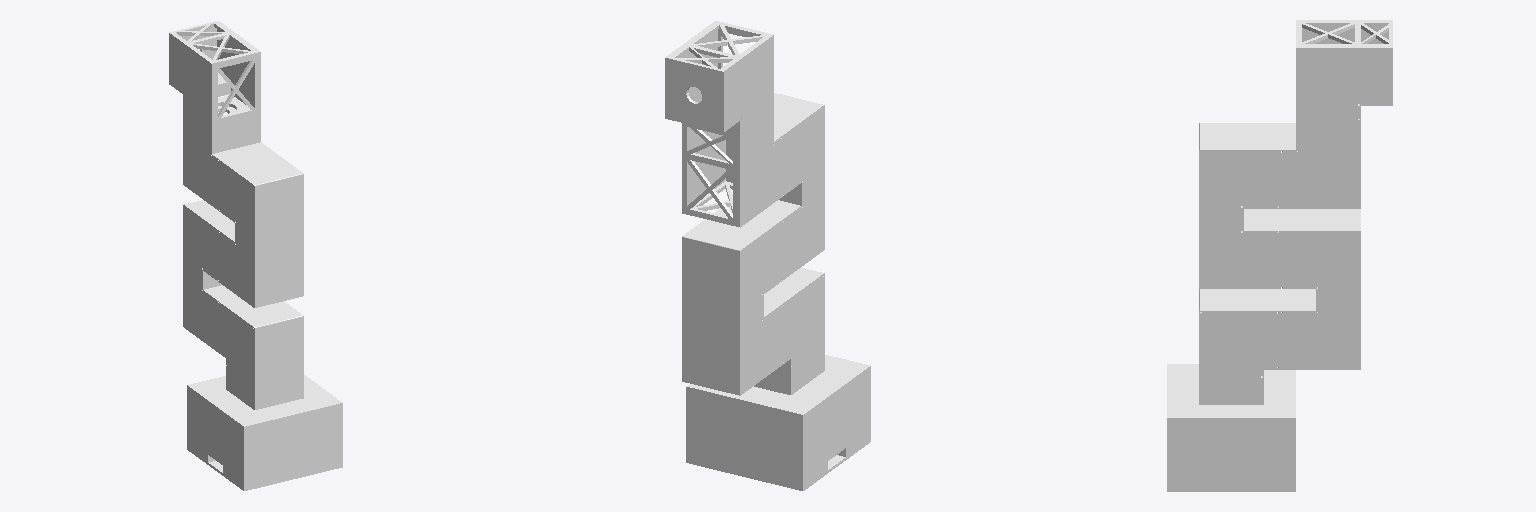
URDF robot description (jdcobot_200_description):
<?xml version="1.0" encoding="utf-8"?>
<!-- This URDF was automatically created by SolidWorks to URDF Exporter! Originally created by [author] ([email redacted]) 
     Commit Version: 1.6.0-4-g7f85cfe  Build Version: 1.6.7995.38578
     For more information, please see http://wiki.ros.org/sw_urdf_exporter -->
<robot
  name="jdcobot_200_description">
  <link
    name="base_link">
    <inertial>
      <origin
        xyz="0.000562757024246966 0.0553111268232362 8.01323732304302E-10"
        rpy="0 0 0" />
      <mass
        value="1.45466230260579" />
      <inertia
        ixx="0.00586037843377662"
        ixy="3.70855294060135E-05"
        ixz="-2.80341788206397E-12"
        iyy="0.00896767875105627"
        iyz="-3.76086880841158E-11"
        izz="0.00580377346334889" />
    </inertial>
    <visual>
      <origin
        xyz="0 0 0"
        rpy="0 0 0" />
      <geometry>
        <mesh
          filename="package://jdcobot_200_description/meshes/base_link.STL" />
      </geometry>
      <material
        name="">
        <color
          rgba="1 1 1 1" />
      </material>
    </visual>
    <collision>
      <origin
        xyz="0 0 0"
        rpy="0 0 0" />
      <geometry>
        <mesh
          filename="package://jdcobot_200_description/meshes/base_link.STL" />
      </geometry>
    </collision>
  </link>
  <link
    name="link_1">
    <inertial>
      <origin
        xyz="-0.00686430187287576 -0.0611677451215621 -3.07255157625046E-15"
        rpy="0 0 0" />
      <mass
        value="0.353787090695809" />
      <inertia
        ixx="0.000417769900292588"
        ixy="-8.77307022551608E-05"
        ixz="-8.54033675269732E-18"
        iyy="0.000338976404100492"
        iyz="-4.5121263711427E-18"
        izz="0.000546340543517855" />
    </inertial>
    <visual>
      <origin
        xyz="0 0 0"
        rpy="0 0 0" />
      <geometry>
        <mesh
          filename="package://jdcobot_200_description/meshes/link_1.STL" />
      </geometry>
      <material
        name="">
        <color
          rgba="1 1 1 1" />
      </material>
    </visual>
    <collision>
      <origin
        xyz="0 0 0"
        rpy="0 0 0" />
      <geometry>
        <mesh
          filename="package://jdcobot_200_description/meshes/link_1.STL" />
      </geometry>
    </collision>
  </link>
  <joint
    name="joint_1"
    type="revolute">
    <origin
      xyz="0 0 0.1"
      rpy="-1.5708 0 -1.5708" />
    <parent
      link="base_link" />
    <child
      link="link_1" />
    <axis
      xyz="0 1 0" />
    <!-- Set appropriate limits -->
    <limit lower="-3.14" upper="3.14" effort="100" velocity="3" />
  </joint>
  <link
    name="link_2">
    <inertial>
      <origin
        xyz="-0.0512205933131344 -0.0568783763544331 -4.06670055236497E-06"
        rpy="0 0 0" />
      <mass
        value="0.463736619092963" />
      <inertia
        ixx="0.0020393996859804"
        ixy="5.56420200364723E-05"
        ixz="7.13268550773058E-05"
        iyy="0.00078084723809914"
        iyz="4.62251136513137E-05"
        izz="0.00224858529254322" />
    </inertial>
    <visual>
      <origin
        xyz="0 0 0"
        rpy="0 0 0" />
      <geometry>
        <mesh
          filename="package://jdcobot_200_description/meshes/link_2.STL" />
      </geometry>
      <material
        name="">
        <color
          rgba="1 1 1 1" />
      </material>
    </visual>
    <collision>
      <origin
        xyz="0 0 0"
        rpy="0 0 0" />
      <geometry>
        <mesh
          filename="package://jdcobot_200_description/meshes/link_2.STL" />
      </geometry>
    </collision>
  </link>
  <joint
    name="joint_2"
    type="revolute">
    <origin
      xyz="-0.06 -0.088 0"
      rpy="0 0 0" />
    <parent
      link="link_1" />
    <child
      link="link_2" />
    <axis
      xyz="1 0 0" />
    <!-- Set appropriate limits -->
    <limit lower="-3.14" upper="3.14" effort="100" velocity="3" />
  </joint>
  <link
    name="link_3">
    <inertial>
      <origin
        xyz="0.051221 -0.056878 4.0667E-06"
        rpy="0 0 0" />
      <mass
        value="0.46374" />
      <inertia
        ixx="0.0020394"
        ixy="-5.5642E-05"
        ixz="7.1327E-05"
        iyy="0.00078085"
        iyz="-4.6225E-05"
        izz="0.0022486" />
    </inertial>
    <visual>
      <origin
        xyz="0 0 0"
        rpy="0 0 0" />
      <geometry>
        <mesh
          filename="package://jdcobot_200_description/meshes/link_3.STL" />
      </geometry>
      <material
        name="">
        <color
          rgba="1 1 1 1" />
      </material>
    </visual>
    <collision>
      <origin
        xyz="0 0 0"
        rpy="0 0 0" />
      <geometry>
        <mesh
          filename="package://jdcobot_200_description/meshes/link_3.STL" />
      </geometry>
    </collision>
  </link>
  <joint
    name="joint_3"
    type="revolute">
    <origin
      xyz="0 -0.11 0"
      rpy="0 0 0" />
    <parent
      link="link_2" />
    <child
      link="link_3" />
    <axis
      xyz="1 0 0" />
    <!-- Set appropriate limits -->
    <limit lower="-3.14" upper="3.14" effort="100" velocity="3" />
  </joint>
  <link
    name="link_4">
    <inertial>
      <origin
        xyz="0.048821 0.022413 -0.00010181"
        rpy="0 0 0" />
      <mass
        value="0.23955" />
      <inertia
        ixx="0.0005247"
        ixy="-3.7421E-05"
        ixz="-5.9367E-05"
        iyy="0.0003591"
        iyz="4.4372E-06"
        izz="0.00057947" />
    </inertial>
    <visual>
      <origin
        xyz="0 0 0"
        rpy="0 0 0" />
      <geometry>
        <mesh
          filename="package://jdcobot_200_description/meshes/link_4.STL" />
      </geometry>
      <material
        name="">
        <color
          rgba="1 1 1 1" />
      </material>
    </visual>
    <collision>
      <origin
        xyz="0 0 0"
        rpy="0 0 0" />
      <geometry>
        <mesh
          filename="package://jdcobot_200_description/meshes/link_4.STL" />
      </geometry>
    </collision>
  </link>
  <joint
    name="joint_4"
    type="revolute">
    <origin
      xyz="0 -0.11 0"
      rpy="0 0 -3.1416" />
    <parent
      link="link_3" />
    <child
      link="link_4" />
    <axis
      xyz="1 0 0" />
    <!-- Set appropriate limits -->
    <limit lower="-3.14" upper="3.14" effort="100" velocity="3" />
  </joint>
  <link
    name="link_5">
    <inertial>
      <origin
        xyz="-0.0488207687805612 0.0224126689652474 0.0001018097402508"
        rpy="0 0 0" />
      <mass
        value="0.239547259500175" />
      <inertia
        ixx="0.000524698163491167"
        ixy="3.74214131540637E-05"
        ixz="-5.9367468239364E-05"
        iyy="0.000359097831103634"
        iyz="-4.43717288201737E-06"
        izz="0.000579467955922389" />
    </inertial>
    <visual>
      <origin
        xyz="0 0 0"
        rpy="0 0 0" />
      <geometry>
        <mesh
          filename="package://jdcobot_200_description/meshes/link_5.STL" />
      </geometry>
      <material
        name="">
        <color
          rgba="1 1 1 1" />
      </material>
    </visual>
    <collision>
      <origin
        xyz="0 0 0"
        rpy="0 0 0" />
      <geometry>
        <mesh
          filename="package://jdcobot_200_description/meshes/link_5.STL" />
      </geometry>
    </collision>
  </link>
  <joint
    name="joint_5"
    type="revolute">
    <origin
      xyz="0.06 0.08 0"
      rpy="0 0 -1.5708" />
    <parent
      link="link_4" />
    <child
      link="link_5" />
    <axis
      xyz="1 0 0" />
    <!-- Set appropriate limits -->
    <limit lower="-3.14" upper="3.14" effort="100" velocity="3" />
  </joint>
</robot>

--- Facts derived from the render (not from the file) ---
Views: 3 orthographic renders of the robot side by side, from view 1: azimuth 30°, elevation 25°; view 2: azimuth 150°, elevation 25°; view 3: azimuth 270°, elevation 25°.
Robot: jdcobot_200_description — 6 links, 5 joints (5 revolute); root link base_link; default pose: all joints at 0.
Visible links, largest first — view 1: base_link, link_3, link_1, link_5, link_2, link_4; view 2: base_link, link_2, link_5, link_4, link_3, link_1; view 3: base_link, link_3, link_2, link_5, link_1, link_4.
Link boxes in pixels (box(x1,y1,x2,y2)): base_link: box(187, 375, 342, 490); link_3: box(219, 148, 303, 307); link_1: box(219, 297, 303, 409); link_5: box(169, 21, 260, 127); link_2: box(183, 200, 237, 352); link_4: box(183, 106, 267, 210); base_link: box(686, 355, 870, 490); link_2: box(682, 207, 782, 395); link_5: box(665, 21, 773, 135); link_4: box(682, 112, 782, 227); link_3: box(730, 93, 824, 279); link_1: box(754, 268, 824, 394); base_link: box(1167, 364, 1295, 491); link_3: box(1199, 123, 1279, 288); link_2: box(1280, 209, 1360, 369); link_5: box(1296, 20, 1392, 120); link_1: box(1199, 289, 1279, 404); link_4: box(1280, 121, 1360, 208).
Bounding box of the posed robot: 0.16 × 0.28 × 0.588 m (x, y, z).
6 mesh visuals loaded from 6 distinct referenced files (6 binary STL).
